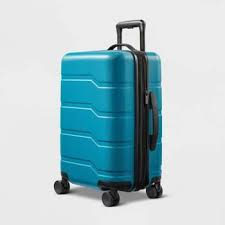suitcase: (52, 18, 165, 208)
